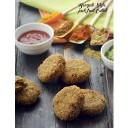cutlet: (52, 86, 82, 119), (15, 74, 39, 107), (65, 59, 93, 83), (82, 88, 105, 115), (37, 56, 65, 78)
